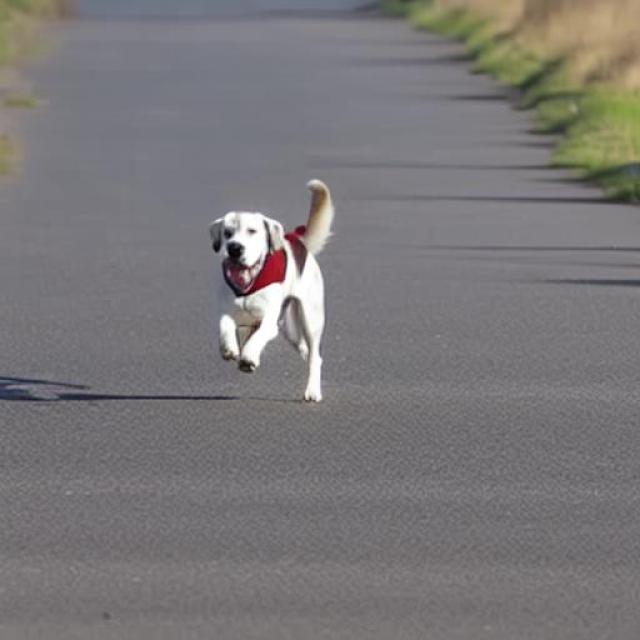Dog: (208, 180, 334, 403)
